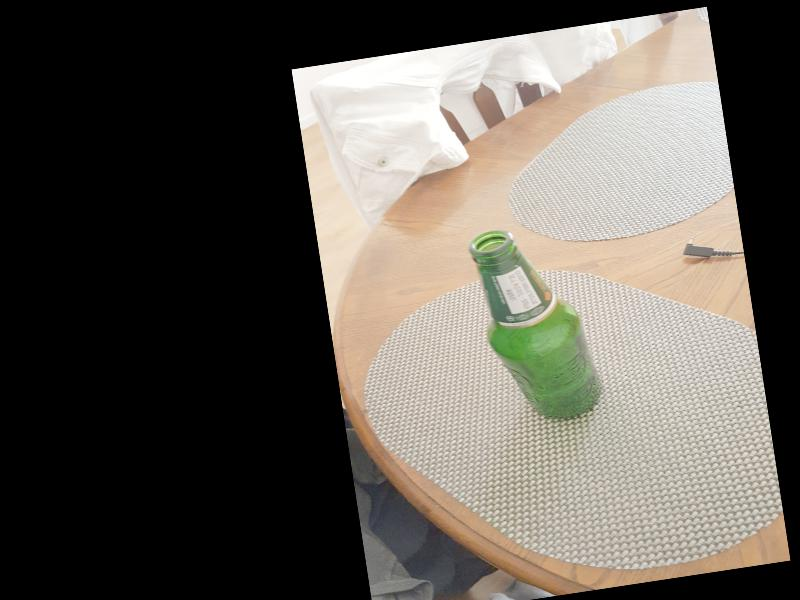Beer: (475, 220, 606, 428)
